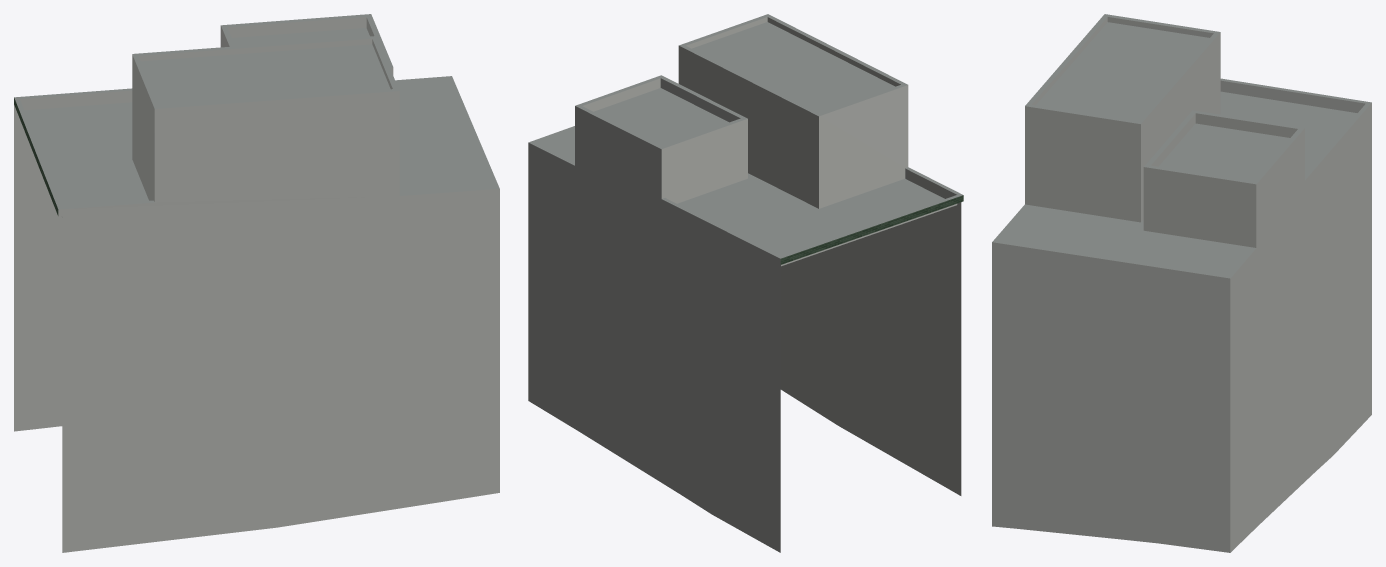
The model's file is envelope.glb.
3 renders of one model, left to right at view 1: azimuth 30°, elevation 25°; view 2: azimuth 150°, elevation 25°; view 3: azimuth 270°, elevation 25°, orthographic. The views are drawn at different scales.
Parts seen in each view (by area): view 1: INFERRED_neutral_grey_white_side_rear, INFERRED_neutral_roof_finish; view 2: INFERRED_neutral_grey_white_side_rear, INFERRED_neutral_roof_finish, EXTRAPOLATED_existing_green_tile_0.215m_cap; view 3: INFERRED_neutral_grey_white_side_rear, INFERRED_neutral_roof_finish.
Boxes of the visible parts, <box> form: INFERRED_neutral_grey_white_side_rear: <box>14,17,499,552</box>; INFERRED_neutral_roof_finish: <box>14,14,499,209</box>; INFERRED_neutral_grey_white_side_rear: <box>528,17,961,552</box>; INFERRED_neutral_roof_finish: <box>528,14,962,258</box>; EXTRAPOLATED_existing_green_tile_0.215m_cap: <box>780,195,963,264</box>; INFERRED_neutral_grey_white_side_rear: <box>992,17,1371,552</box>; INFERRED_neutral_roof_finish: <box>992,14,1371,278</box>.
Size of the model in its own units: 13.87 by 13.05 by 10.99.
Materials: 3 (1 with a texture image).
